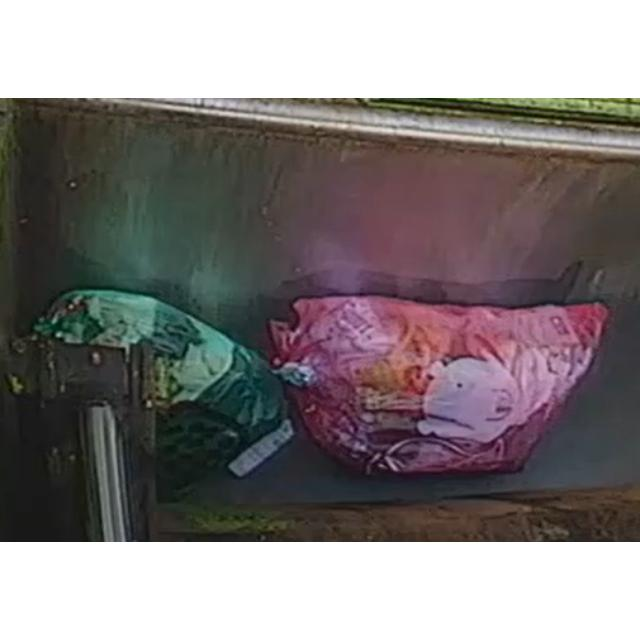general_trashbag: (34, 290, 288, 489)
other_trashbag: (269, 297, 609, 474)
